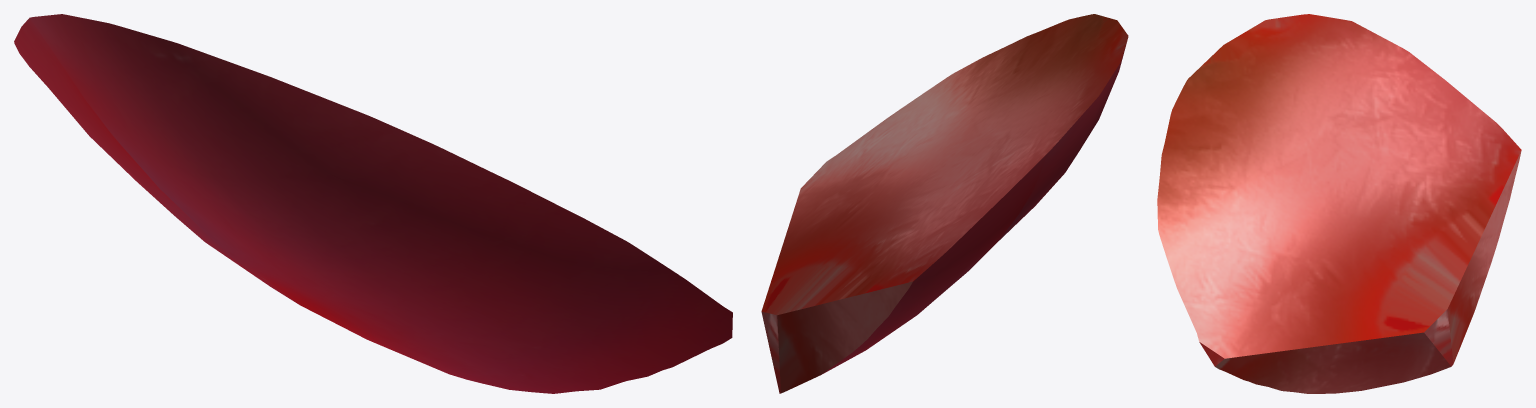
File: SM_HeartPiece_1_.FBX
3 renders of one model, left to right at view 1: azimuth 30°, elevation 25°; view 2: azimuth 150°, elevation 25°; view 3: azimuth 270°, elevation 25°, orthographic. The views are drawn at different scales.
Visible parts, largest first — view 1: SM_HeartPiece_1_; view 2: SM_HeartPiece_1_; view 3: SM_HeartPiece_1_.
Part boxes in pixels (left/top/right/bottom): SM_HeartPiece_1_: left=14, top=14, right=732, bottom=393; SM_HeartPiece_1_: left=761, top=14, right=1128, bottom=393; SM_HeartPiece_1_: left=1157, top=14, right=1521, bottom=393.
Size of the model in its own units: 253 by 267 by 219.
